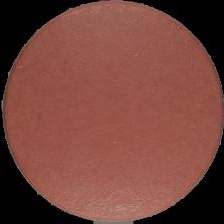65649-301: (0, 0, 224, 224)
